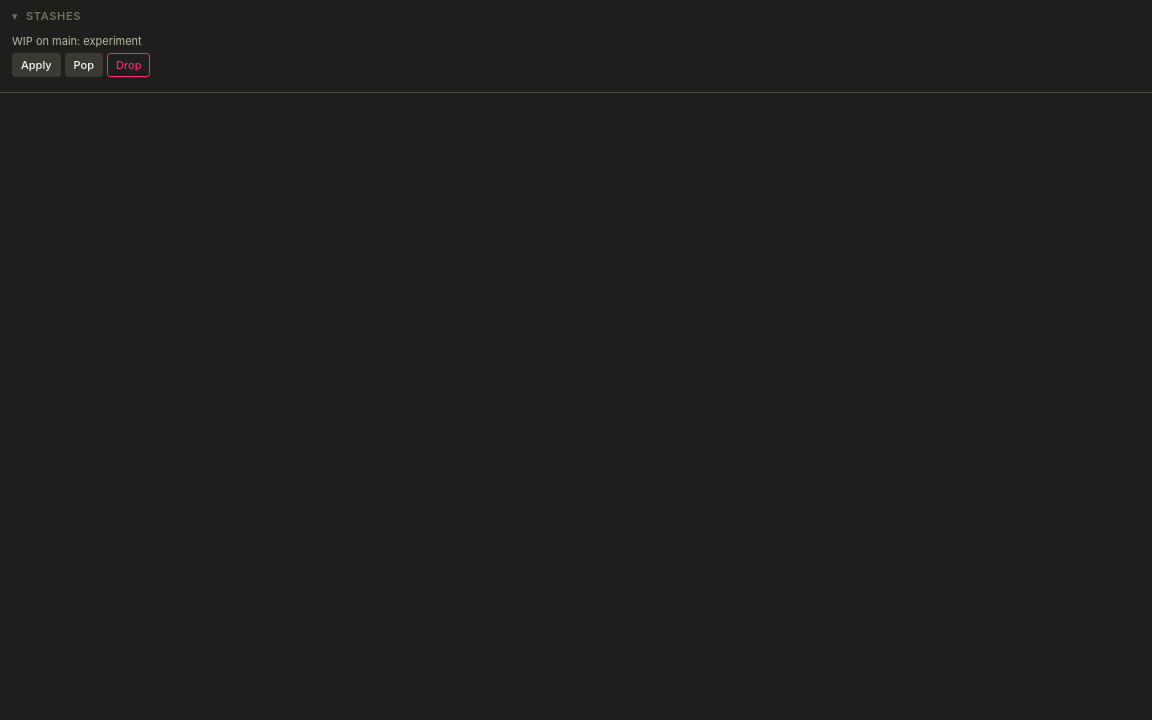
Test case: StashPanel › does not drop a stash when the confirmation is cancelled
The image size is (1152, 720).
Expected: the text "WIP on main: experiment" is shown, [12,34,142,48]
Click the button "Drop" at [129, 65], box [107,53,150,77]
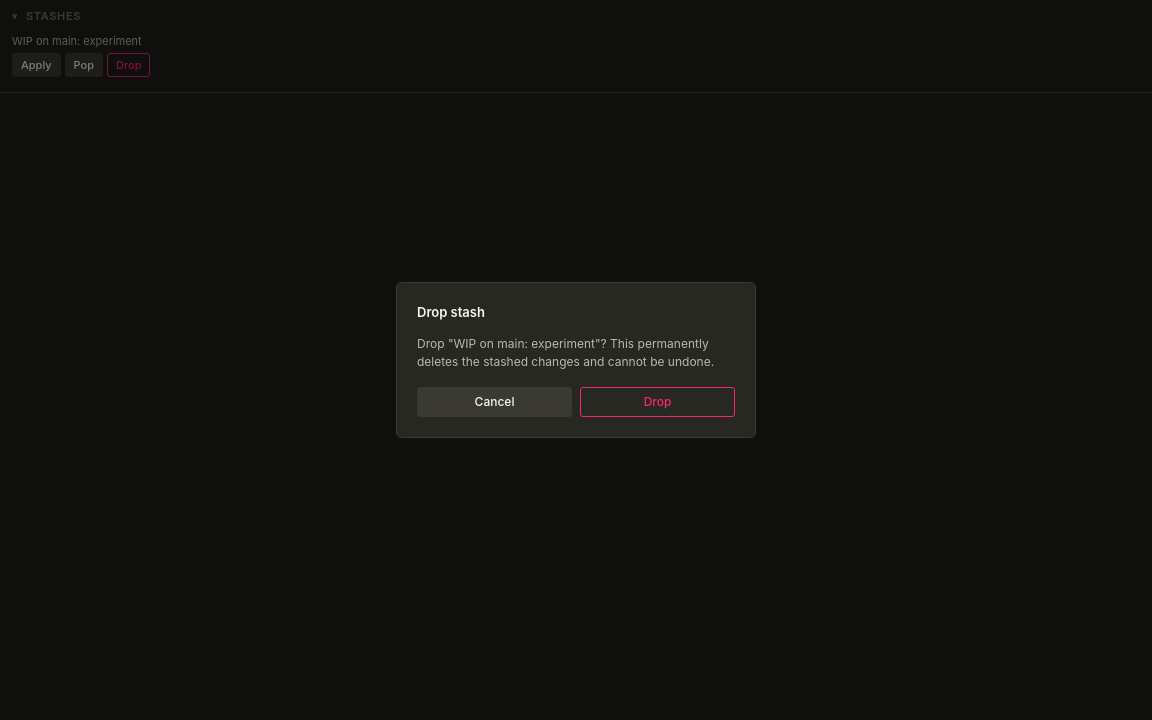
Click the button "Cancel" at [494, 402], box [417,387,572,417]
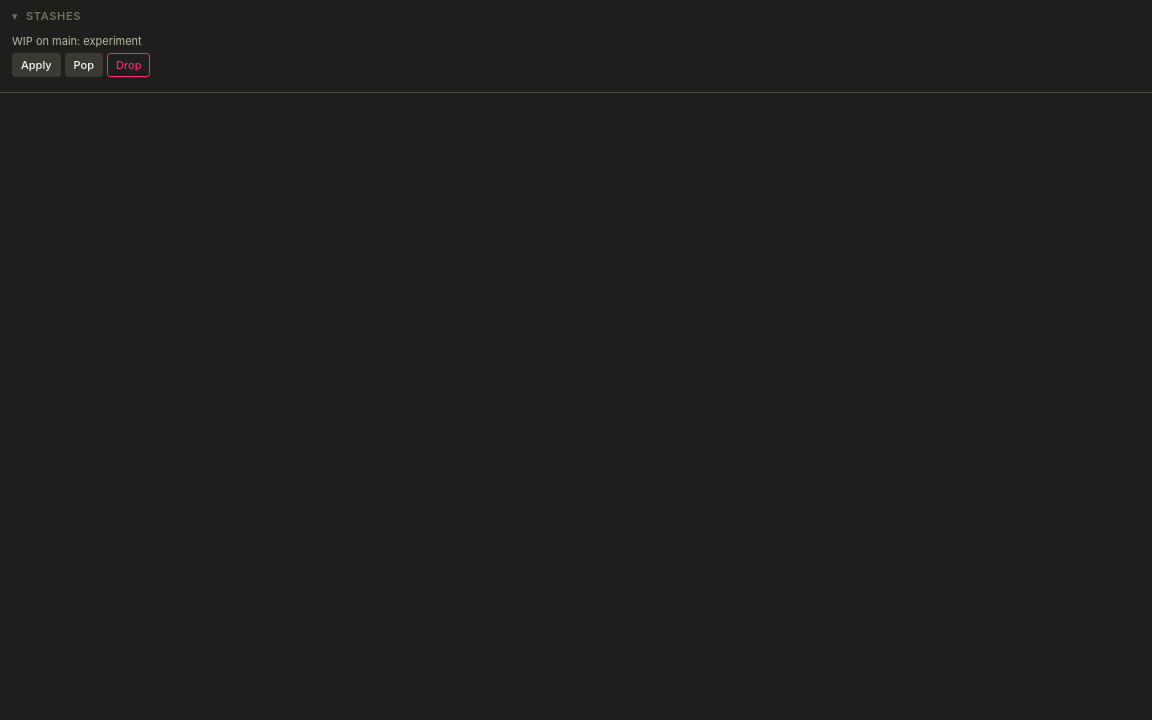
Expected: the dialog is gone
